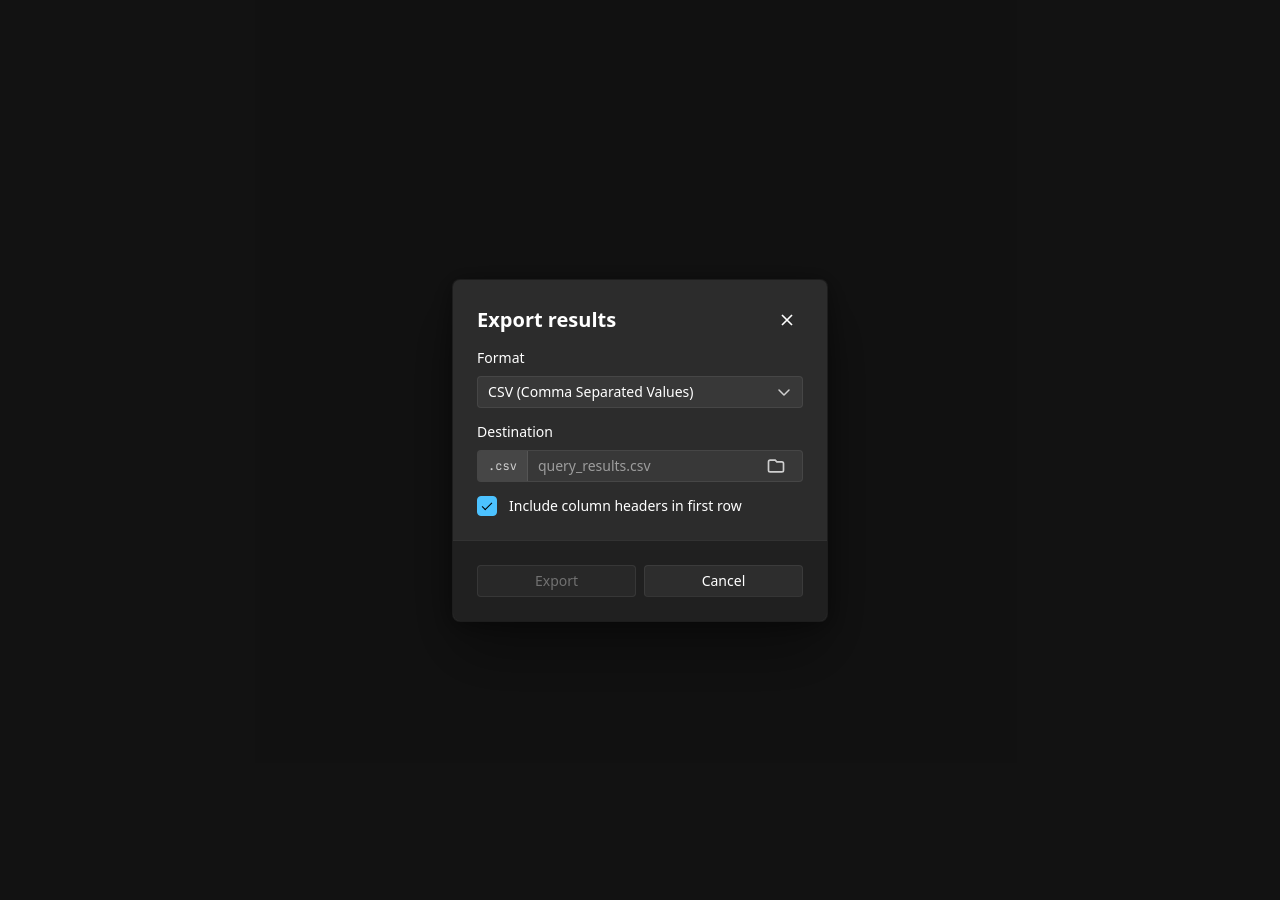
Test: ExportDialog › export button is disabled during export (loading state)
Type "/tmp/export.csv" into the field with test id "export-file-path-input".
click(639, 466); type("/tmp/export.csv")  # box [528,450,750,480]
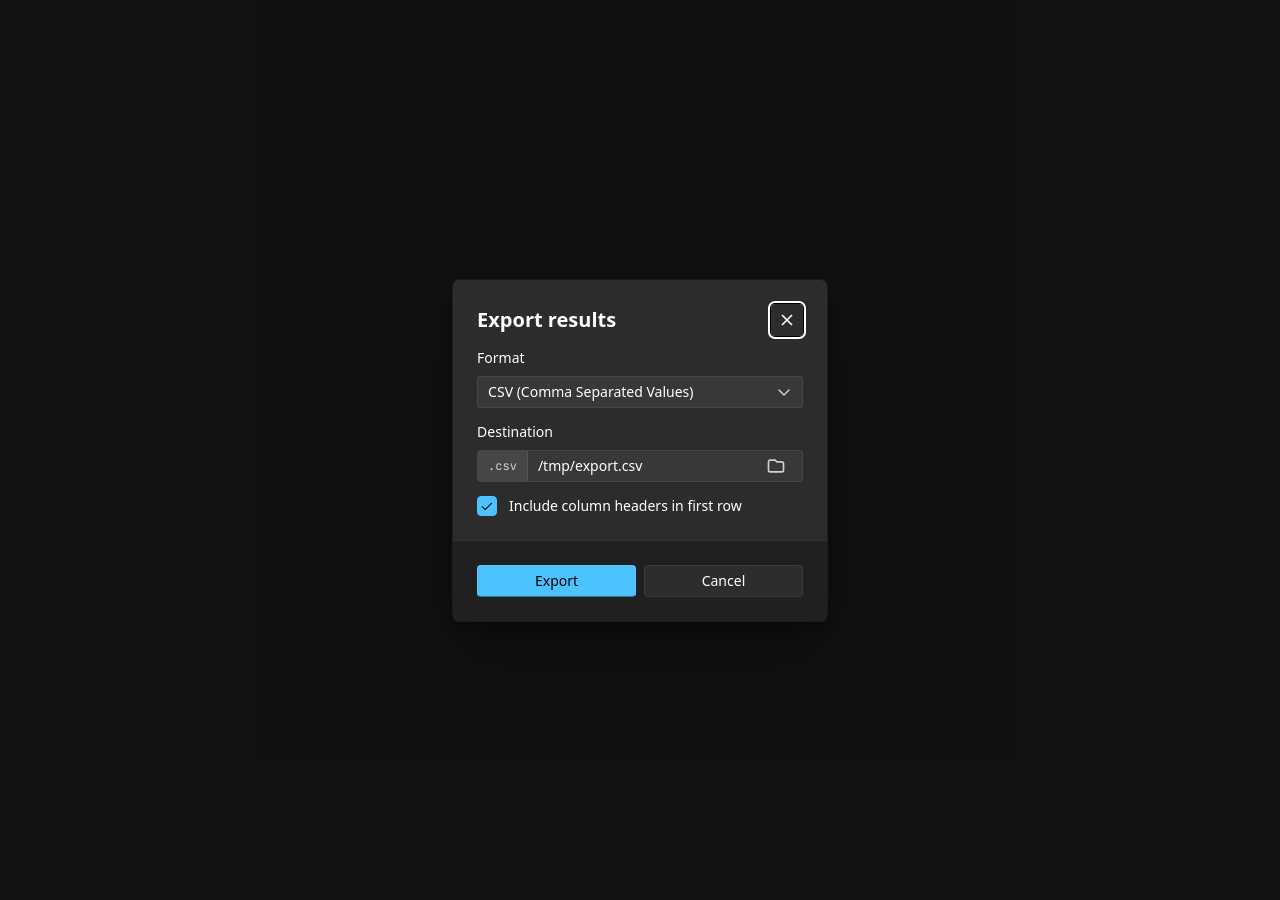
Click the button with test id "export-submit-button".
click(557, 580)  # box [477,564,636,596]
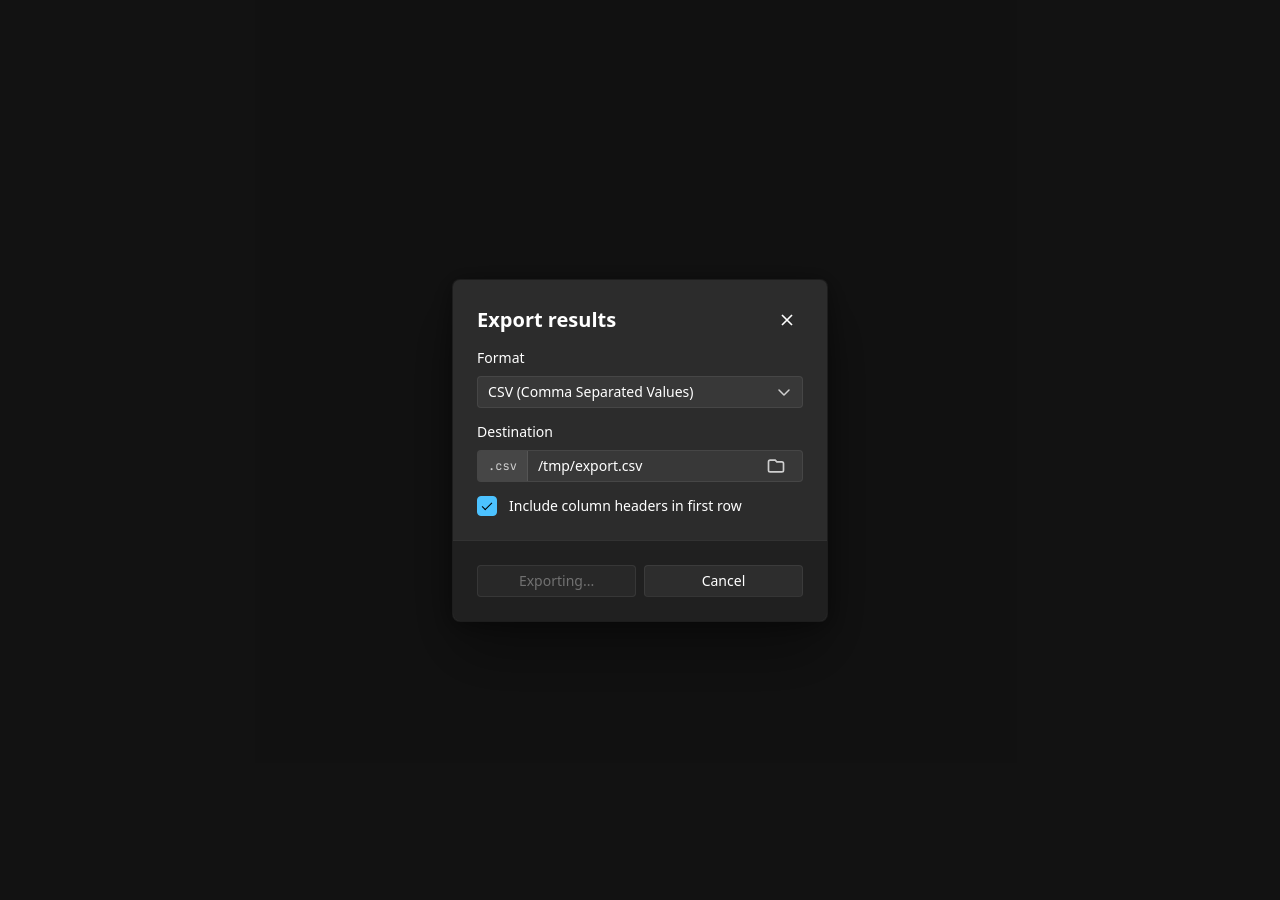
Check: the button with test id "export-submit-button" is disabled, box [477,564,636,596]
Check: the button with test id "export-submit-button" reads "Exporting...", box [477,564,636,596]
